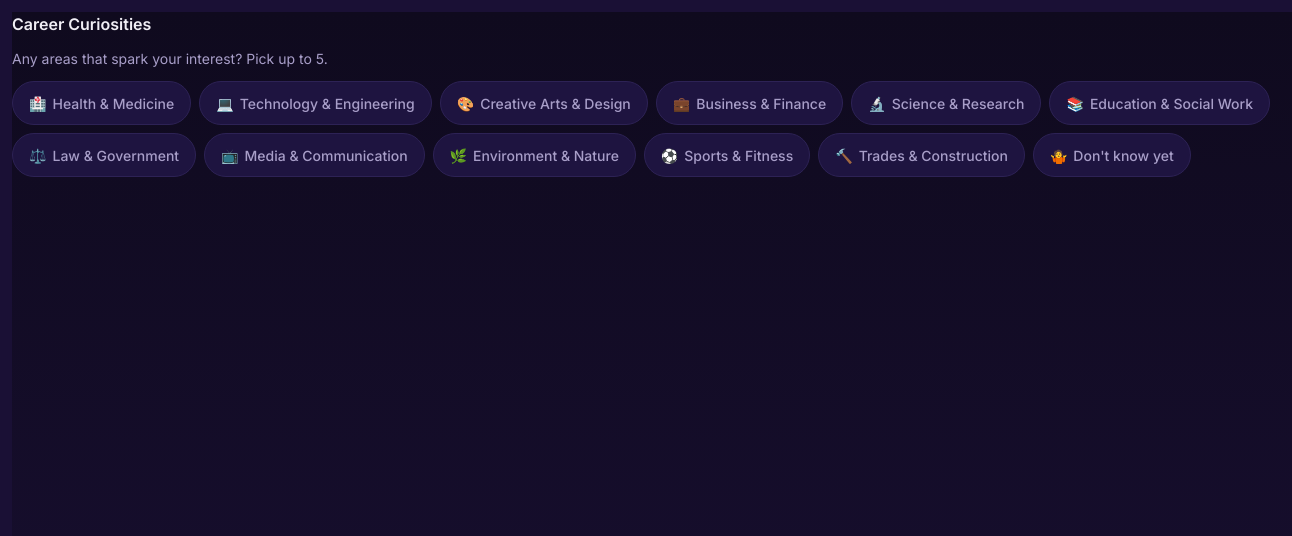
Test: CuriositiesPicker › counts down while picks remain
Click the checkbox labelled "Health & Medicine" at point(102, 103), box top-left (12, 81), bottom-right (191, 125)
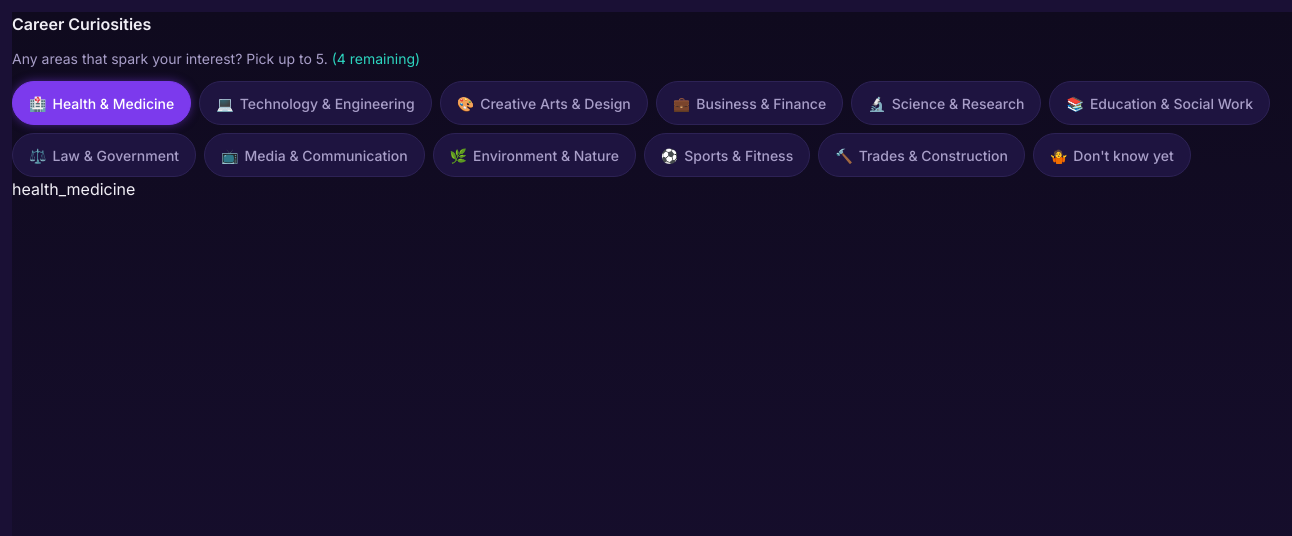
Click the checkbox labelled "Technology & Engineering" at point(315, 103), box top-left (199, 81), bottom-right (432, 125)
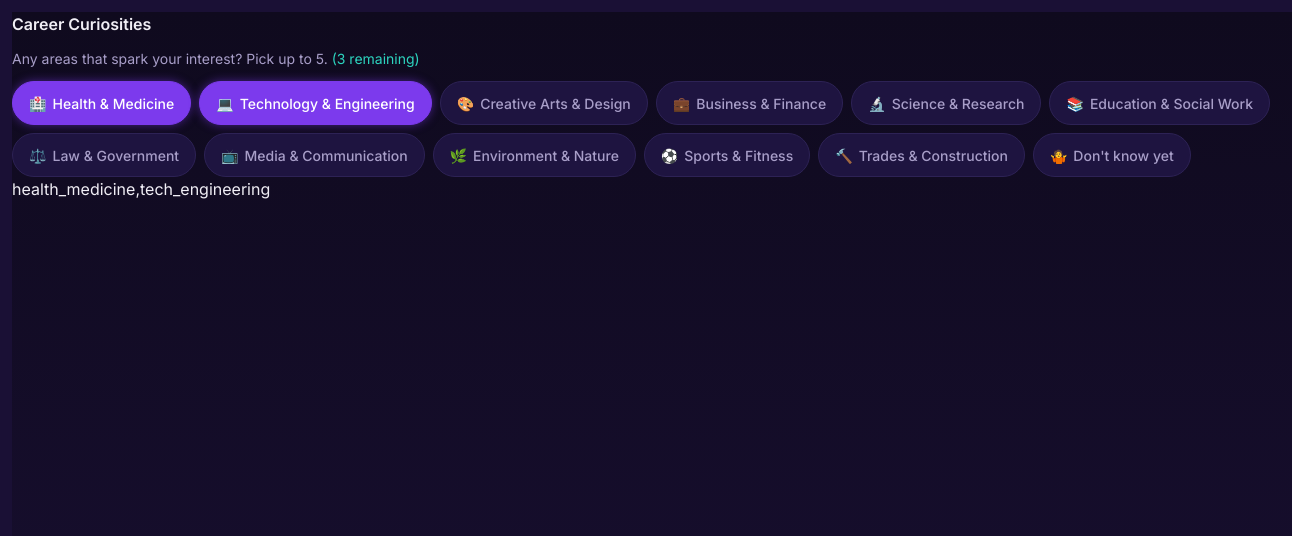
expect the text "(3 remaining)" is shown: met, box top-left (328, 50), bottom-right (420, 67)
